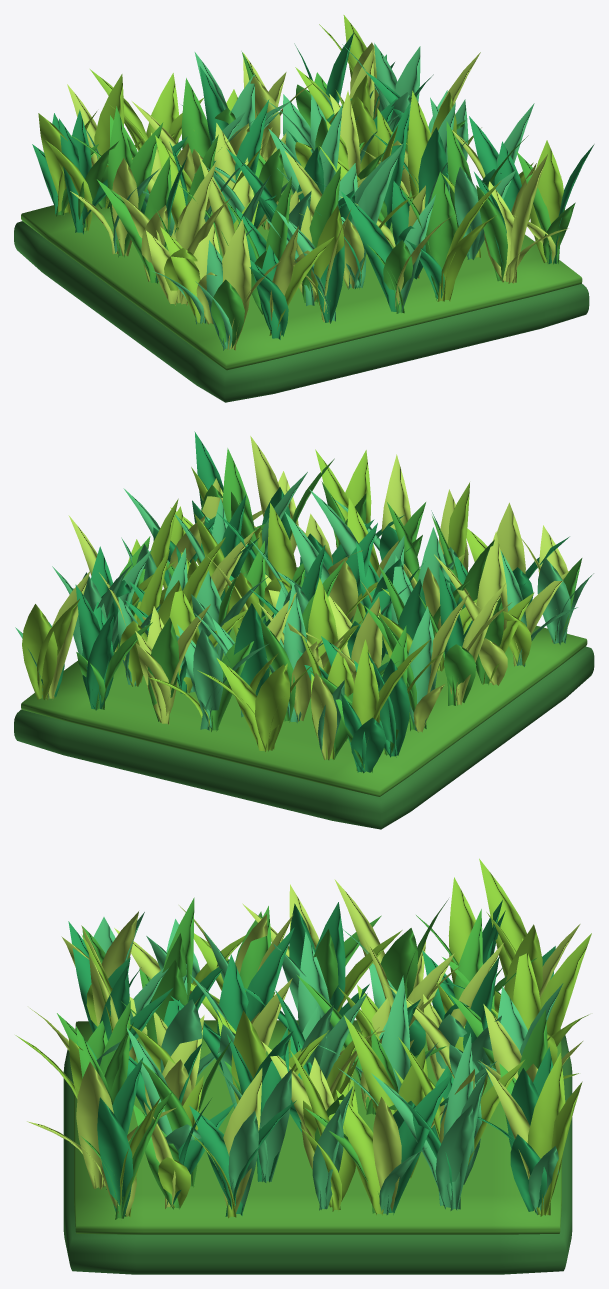
The model's file is pasto-modular.glb.
3 views of the same model, one above another, from view 1: azimuth 30°, elevation 25°; view 2: azimuth 150°, elevation 25°; view 3: azimuth 270°, elevation 25° (orthographic). The views are drawn at different scales.
Visible parts, largest first — view 1: Verde_sol, Cesped_base, Verde_hoja, Verde_pradera, Borde_verde, Verde_lima, Verde_menta; view 2: Verde_lima, Verde_sol, Cesped_base, Borde_verde, Verde_pradera, Verde_menta, Verde_hoja; view 3: Verde_lima, Cesped_base, Verde_menta, Verde_pradera, Verde_sol, Borde_verde, Verde_hoja.
Part boxes in pixels (<box>): Verde_sol: <box>67,42,568,350</box>; Cesped_base: <box>21,164,582,370</box>; Verde_hoja: <box>56,51,575,348</box>; Verde_pradera: <box>32,32,594,339</box>; Borde_verde: <box>14,221,589,402</box>; Verde_lima: <box>38,15,565,335</box>; Verde_menta: <box>86,43,534,350</box>; Verde_lima: <box>22,449,534,770</box>; Verde_sol: <box>47,436,570,760</box>; Cesped_base: <box>21,560,587,796</box>; Borde_verde: <box>14,646,594,829</box>; Verde_pradera: <box>41,431,569,773</box>; Verde_menta: <box>15,472,593,756</box>; Verde_hoja: <box>76,448,582,772</box>; Verde_lima: <box>15,858,591,1218</box>; Cesped_base: <box>74,1020,561,1234</box>; Verde_menta: <box>93,912,563,1215</box>; Verde_pradera: <box>68,900,555,1217</box>; Verde_sol: <box>27,879,582,1216</box>; Borde_verde: <box>63,1035,572,1274</box>; Verde_hoja: <box>57,897,547,1219</box>.
Size of the model in its own units: 1.4 by 0.5556 by 1.43.
